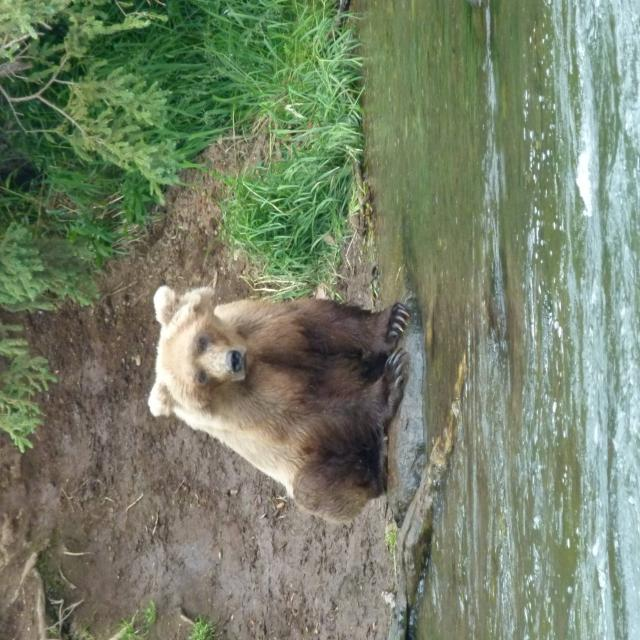bear face: (150, 283, 408, 521)
